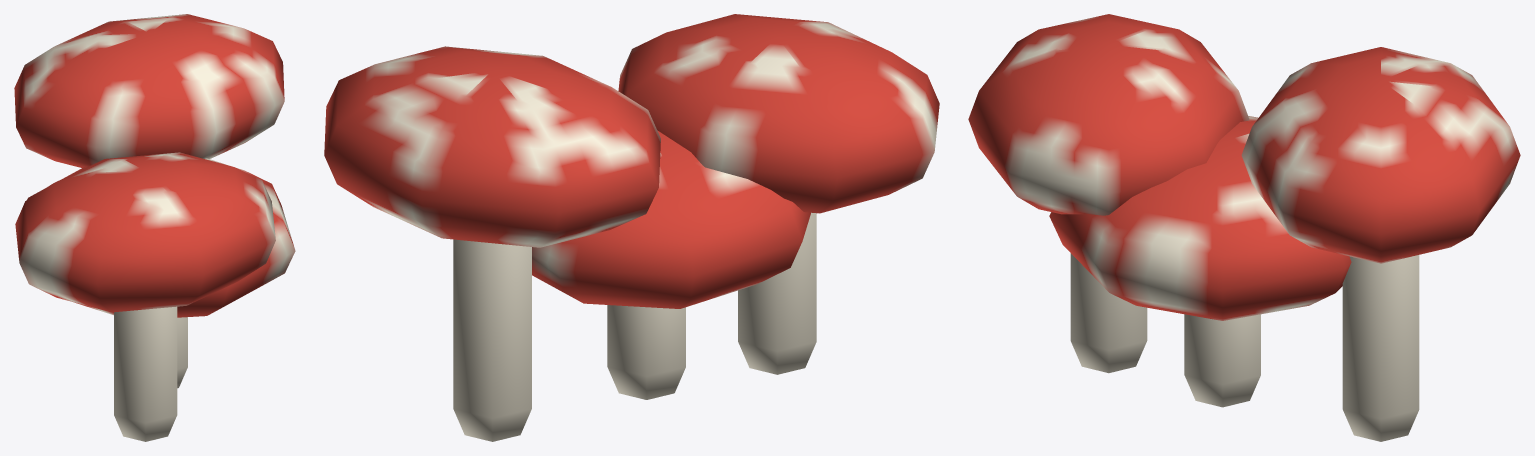
The model's file is prop_shroom5_7400.glb.
3 renders of one model, left to right at view 1: azimuth 30°, elevation 25°; view 2: azimuth 150°, elevation 25°; view 3: azimuth 270°, elevation 25°, orthographic. The views are drawn at different scales.
Visible parts, largest first — view 1: prop_shroom5_7400; view 2: prop_shroom5_7400; view 3: prop_shroom5_7400.
Part boxes in pixels (left/top/right/bottom): prop_shroom5_7400: left=14, top=14, right=295, bottom=441; prop_shroom5_7400: left=324, top=14, right=939, bottom=441; prop_shroom5_7400: left=968, top=14, right=1520, bottom=441.
Bounding box in the file's own units: 0.3678 × 0.2775 × 0.3862.
1 material, 1 textured.
